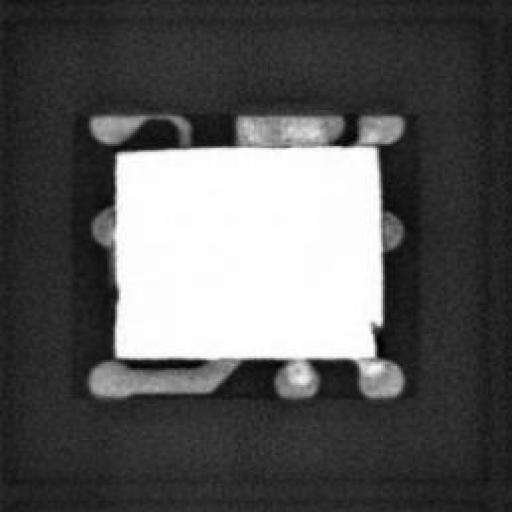DIE_BROKEN: (365, 316, 383, 356)
